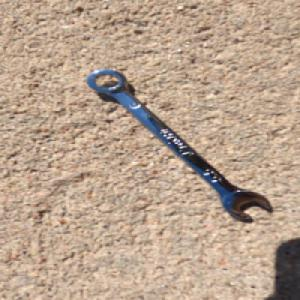Wrench: (82, 67, 273, 221)
